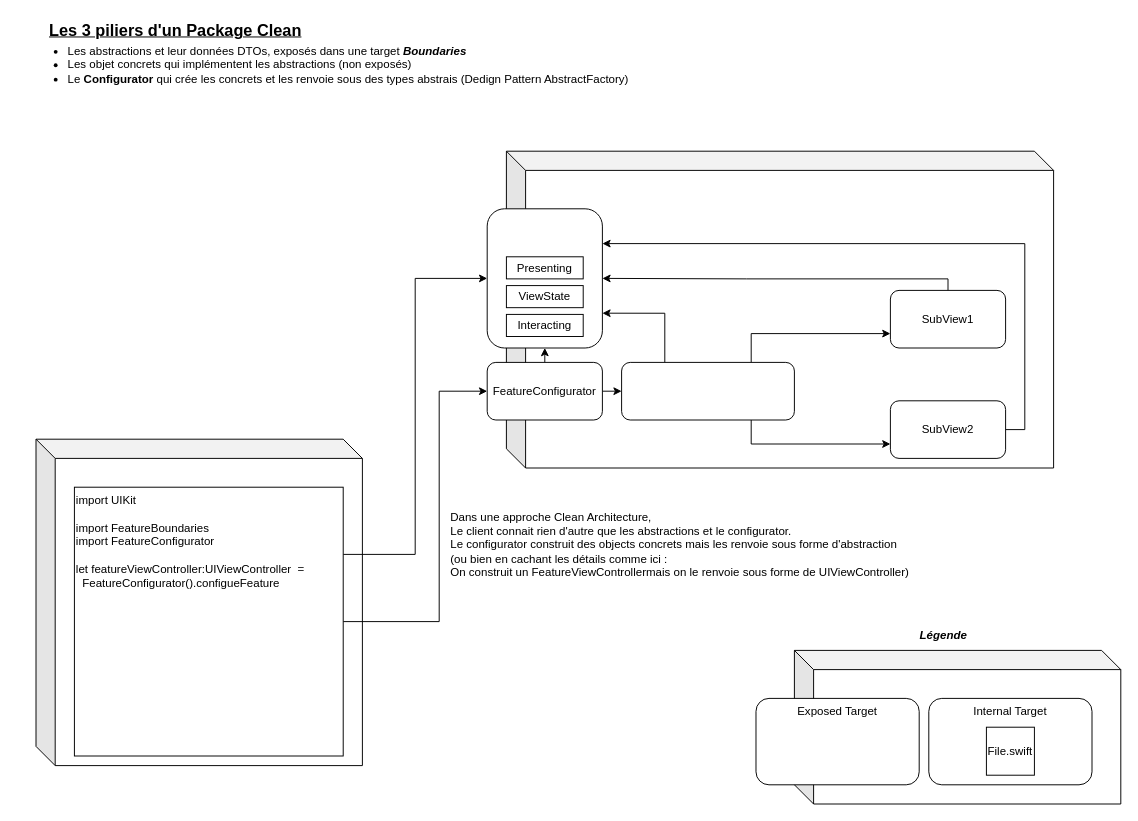
This 1138x821 diagram has some shape labels left out. The box of each missing label's shape, as (x1, y1, x2, y2) in pixels:
App (or other client SPM): (35, 438, 362, 766)
Feature SPM: (505, 150, 1054, 468)
FeatureBoundaries: (486, 208, 602, 348)
FeatureView: (621, 361, 794, 420)
SPM Package (or App): (793, 649, 1121, 804)
